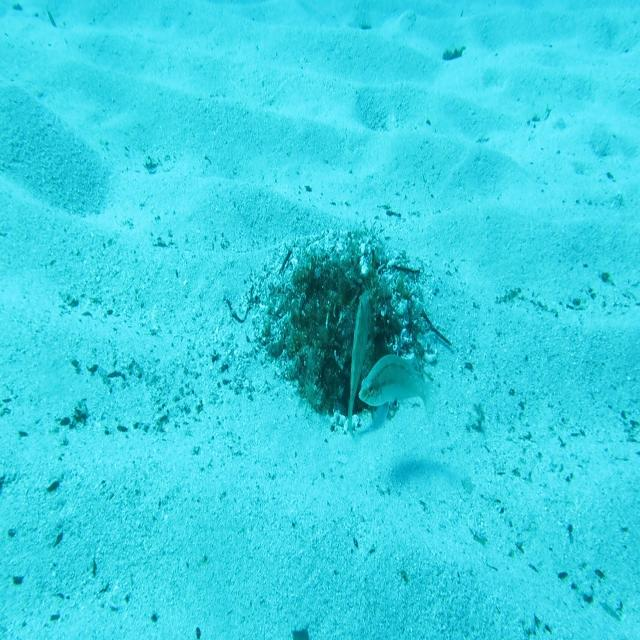FAN: (344, 287, 378, 442)
core_nest: (315, 273, 360, 305)
female: (358, 352, 440, 430)
nest: (245, 222, 443, 453)
vegetation: (439, 46, 466, 66)
